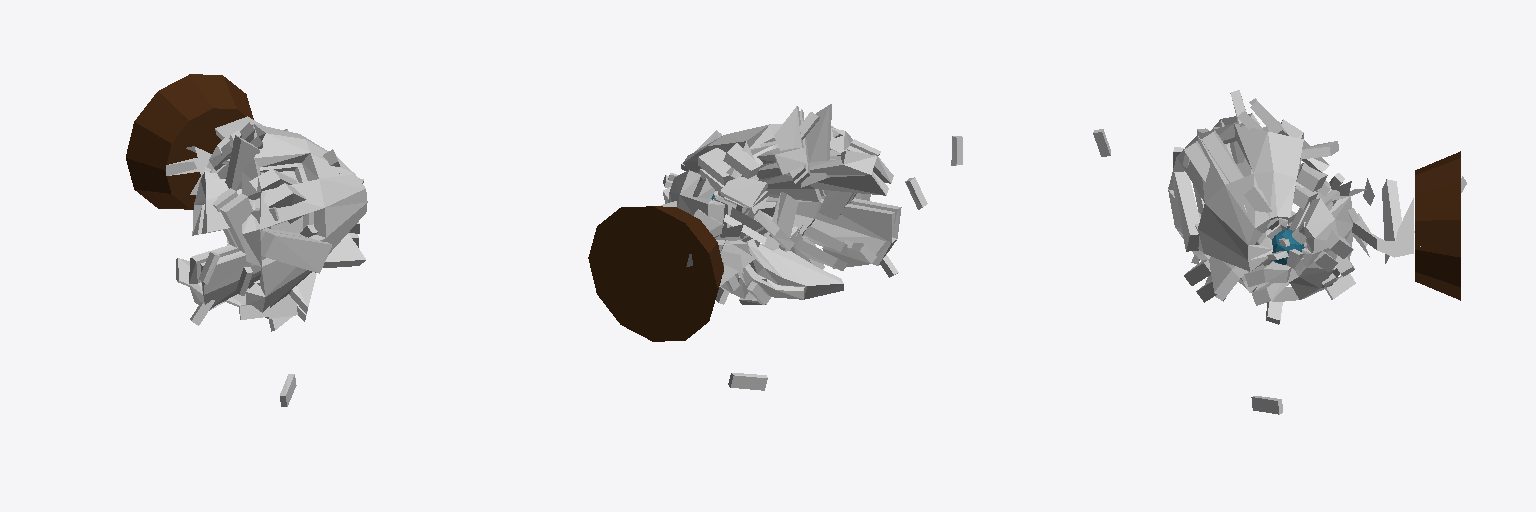
3 views of the same model, side by side, from view 1: azimuth 30°, elevation 25°; view 2: azimuth 150°, elevation 25°; view 3: azimuth 270°, elevation 25° (orthographic).
Visible parts, largest first — view 1: Cone_Cone_cover, Cone.001_Cone.001_cover, Cylinder_Cylinder_Material.001, Plane_Plane_Material.003; view 2: Cone.001_Cone.001_cover, Cylinder_Cylinder_Material.001, Cone_Cone_cover, Plane_Plane_Material.003; view 3: Cone_Cone_cover, Cylinder_Cylinder_Material.001, Cone.001_Cone.001_cover, Plane_Plane_Material.003.
Part boxes in pixels (left/top/right/bottom): Cone_Cone_cover: left=230, top=124, right=367, bottom=406; Cone.001_Cone.001_cover: left=176, top=116, right=317, bottom=325; Cylinder_Cylinder_Material.001: left=126, top=74, right=253, bottom=209; Plane_Plane_Material.003: left=166, top=146, right=225, bottom=194; Cone.001_Cone.001_cover: left=714, top=104, right=962, bottom=304; Cylinder_Cylinder_Material.001: left=588, top=206, right=723, bottom=341; Cone_Cone_cover: left=661, top=124, right=870, bottom=390; Plane_Plane_Material.003: left=686, top=199, right=774, bottom=286; Cone_Cone_cover: left=1168, top=123, right=1359, bottom=414; Cylinder_Cylinder_Material.001: left=1415, top=151, right=1460, bottom=300; Cone.001_Cone.001_cover: left=1093, top=90, right=1351, bottom=253; Plane_Plane_Material.003: left=1335, top=176, right=1466, bottom=263.
Size of the model in its own units: 1.83 by 2.4 by 2.78.
4 materials, 1 textured.